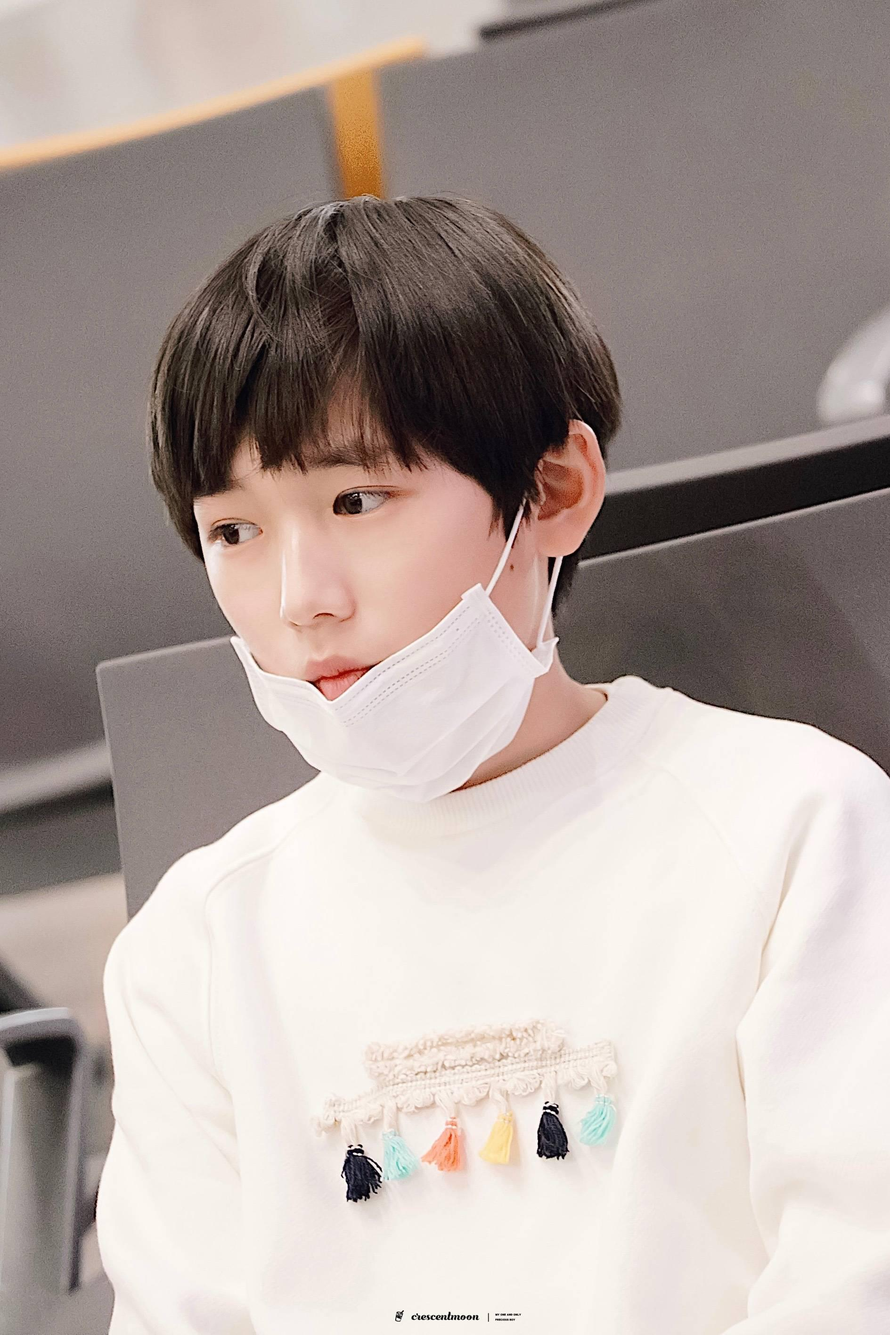WRONG: (195, 420, 498, 770)
